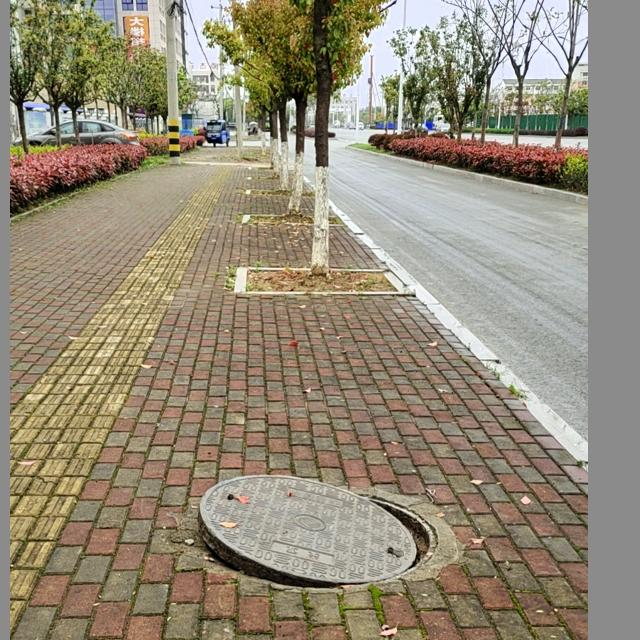uncovered: (193, 475, 460, 592)
